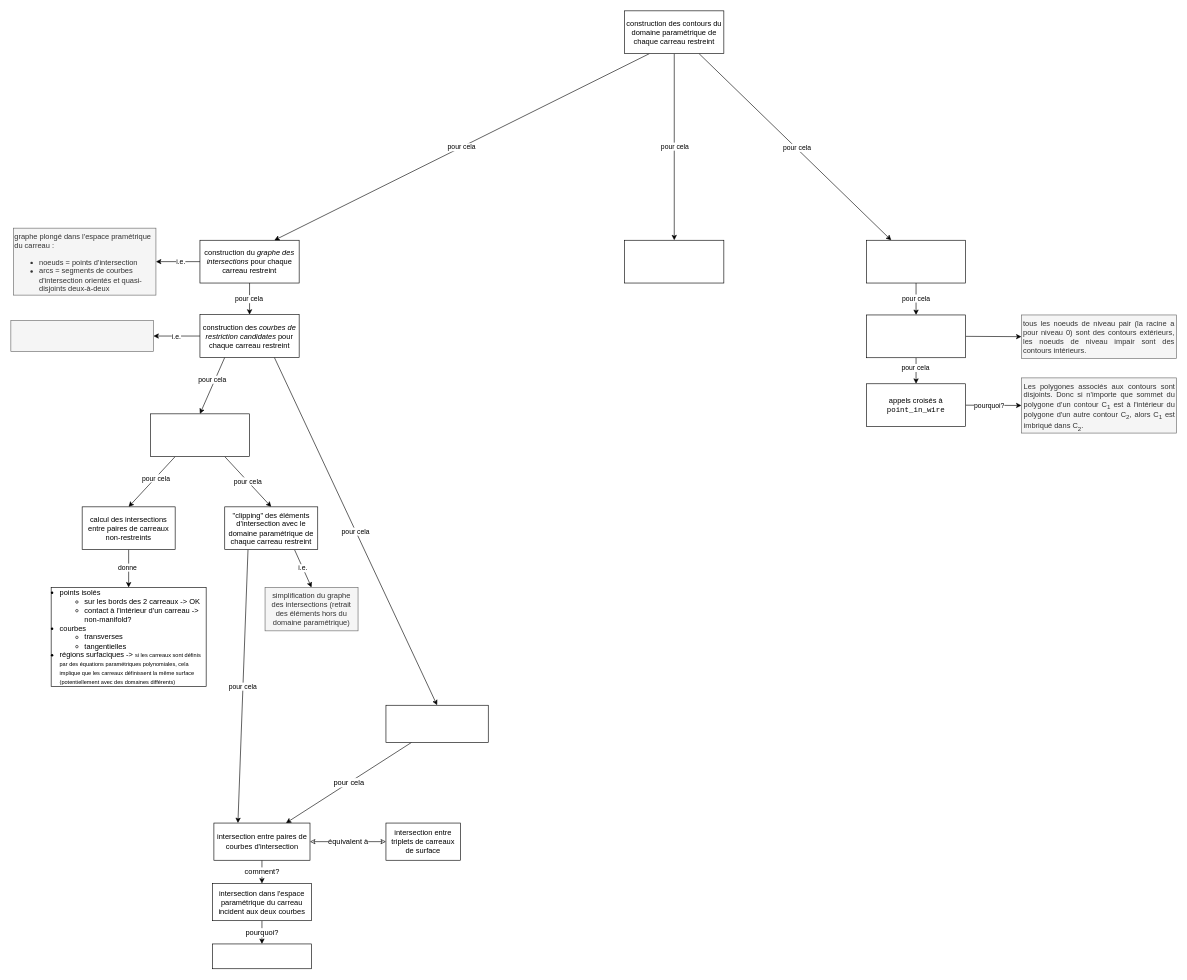
Image size: 1187x980. Some labels were removed from this diagram. Each missing label, with the box of its shape:
calcul des intersections entre paires de carreaux restreints: (150, 413, 250, 457)
contruction d'un "arbre d'imbrication" des contours: (866, 314, 966, 358)
distinction entre contours intérieurs et contours extérieurs: (866, 240, 966, 283)
extraction des contours à partir du graphe des intersections: (624, 240, 724, 283)
intersection de courbes plus simple en 2d qu'en 3d: (212, 943, 312, 969)
segmentation des courbes d'intersection en segments quasi-disjoints 2 à 2: (385, 705, 488, 742)
sur-ensemble des courbes de restriction du nouveau domaine paramétrique: (10, 320, 153, 352)
